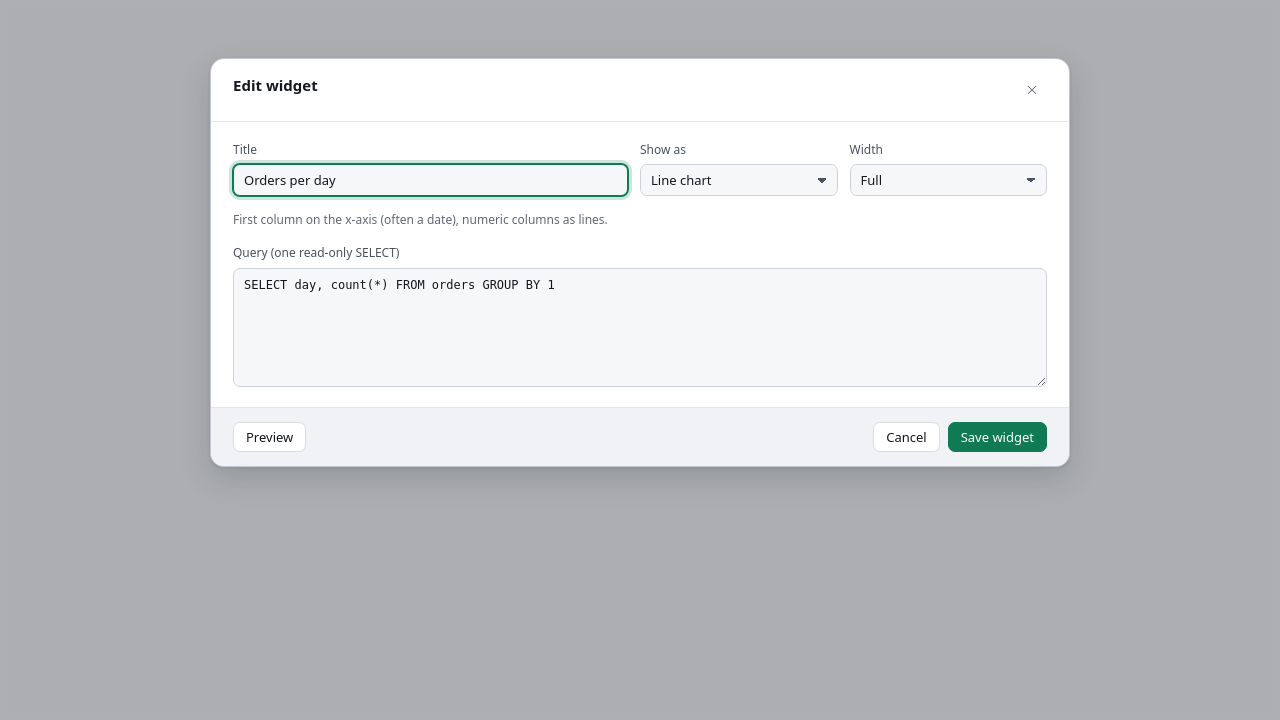
Test: WidgetEditor › shows the preview error and clears the previous preview
Step 1. Click the button "Preview" → point(270, 437), box [233,422,306,452]
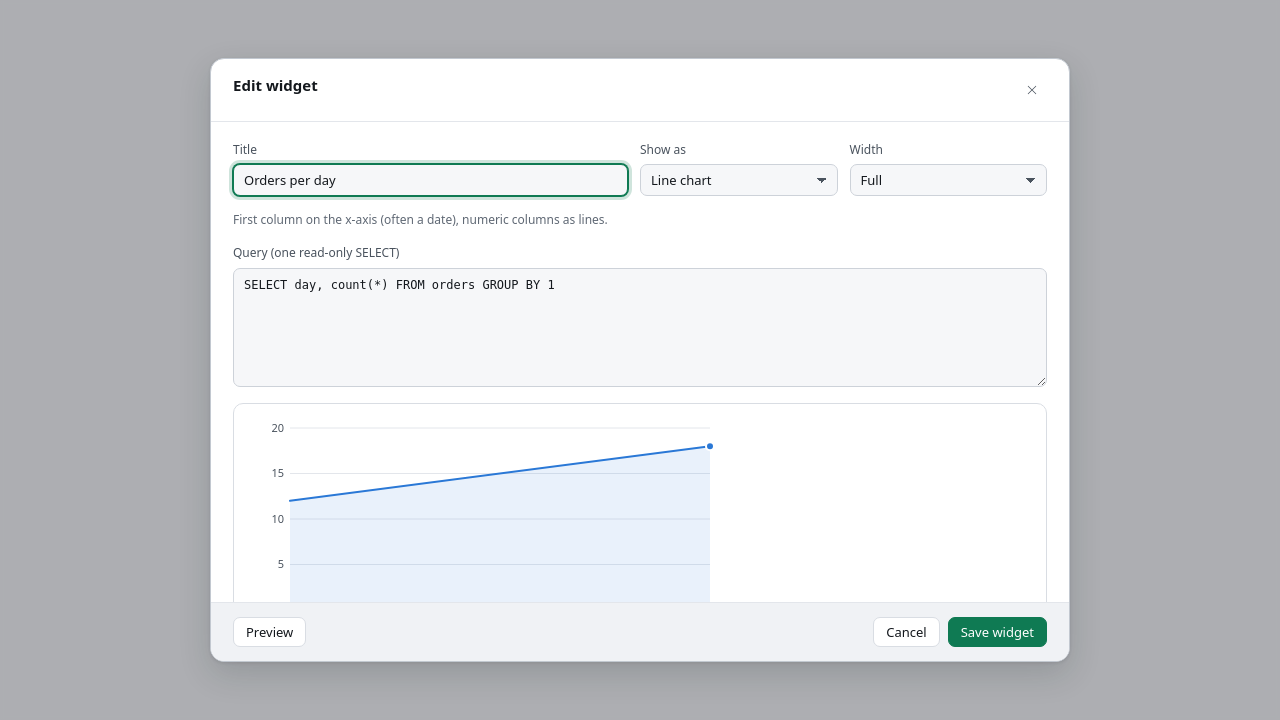
expect the picture is shown: met, box [246,416,726,602]
Step 2. Replace the text in the text box labelled "Query (one read-only SELECT)" with "SELECT * FROM orderz" → point(640, 327), box [233,268,1047,387]
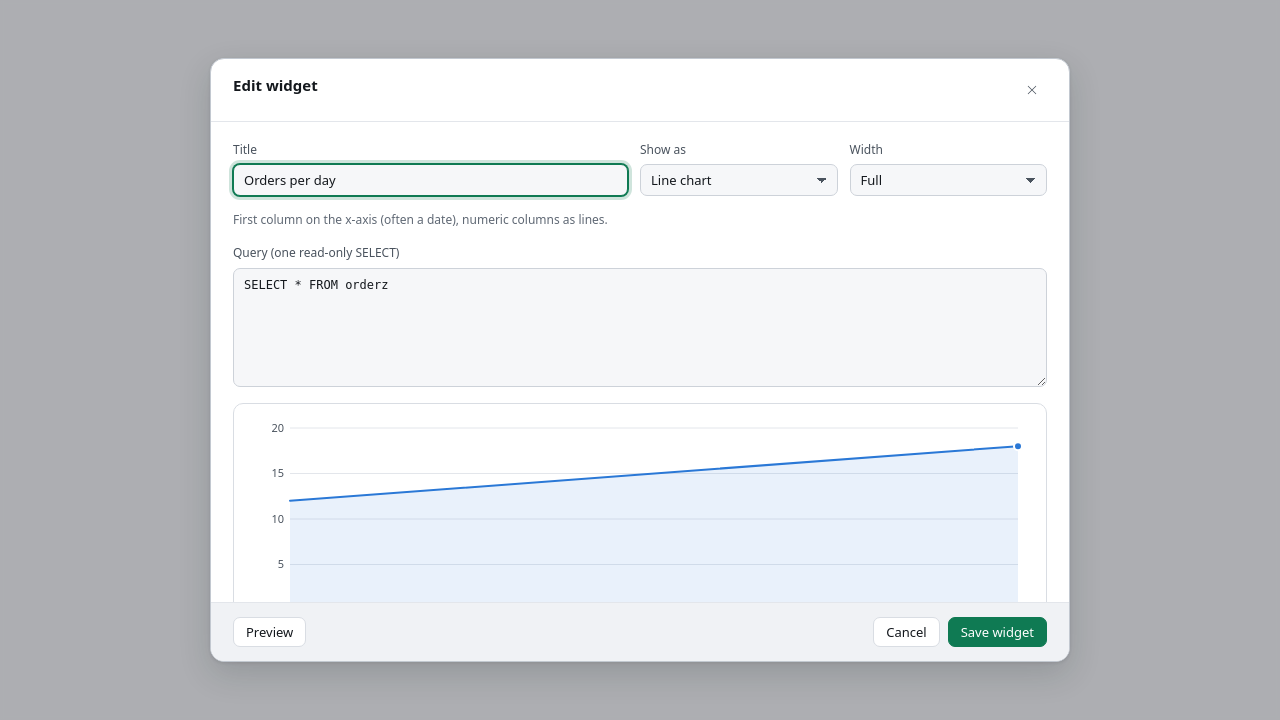
Step 3. Click the button "Preview" → point(270, 632), box [233,617,306,647]
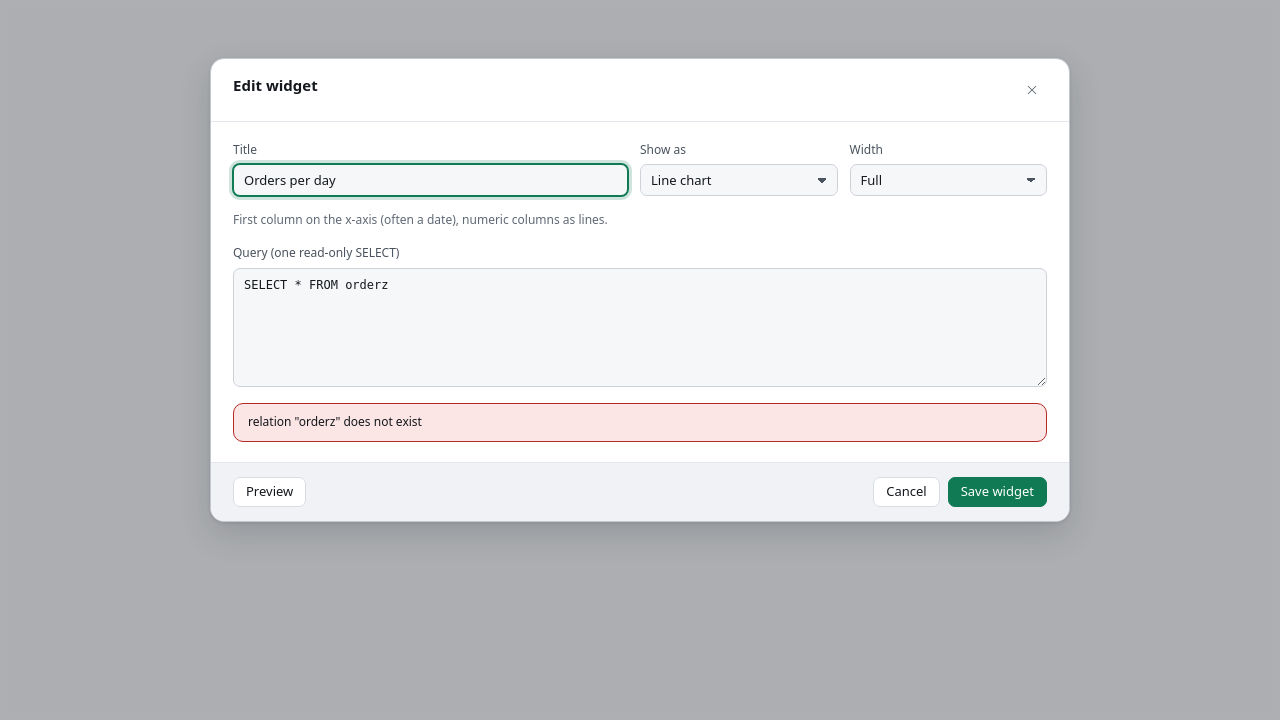
expect the button "Preview" is enabled: met, box [233,477,306,507]
expect the picture is gone: met
